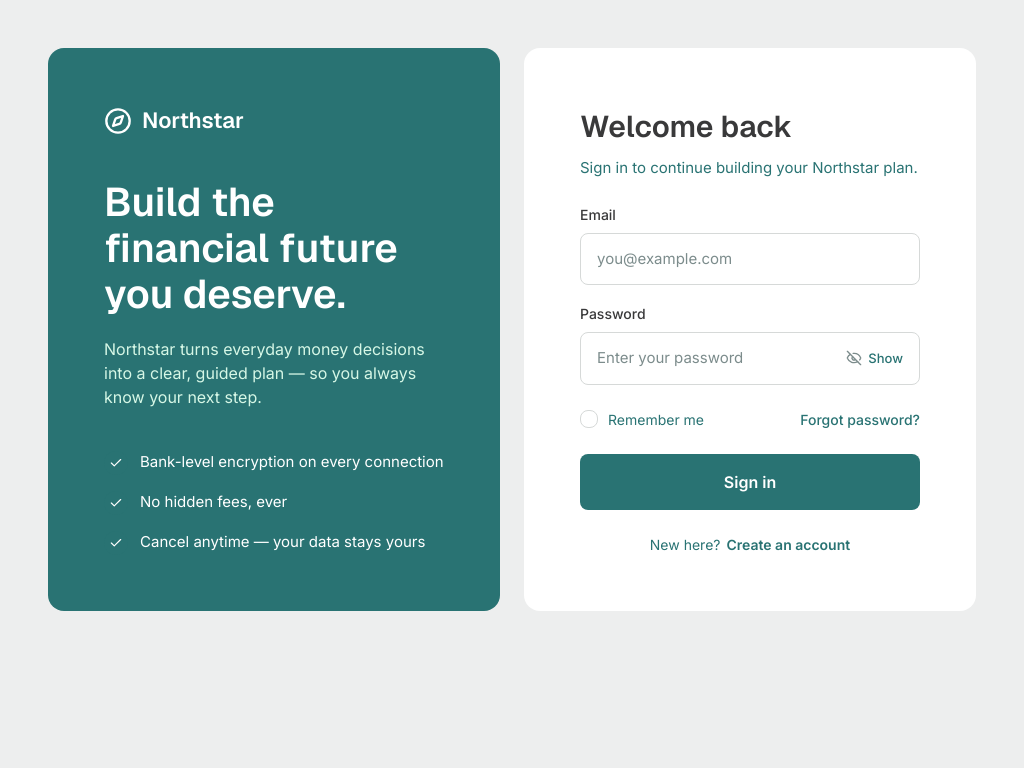
it: an invalid sign-in › explains a missing password
Type "ana@example.com" into the field labelled "Email" at (750, 259), box [597,248,903,270]
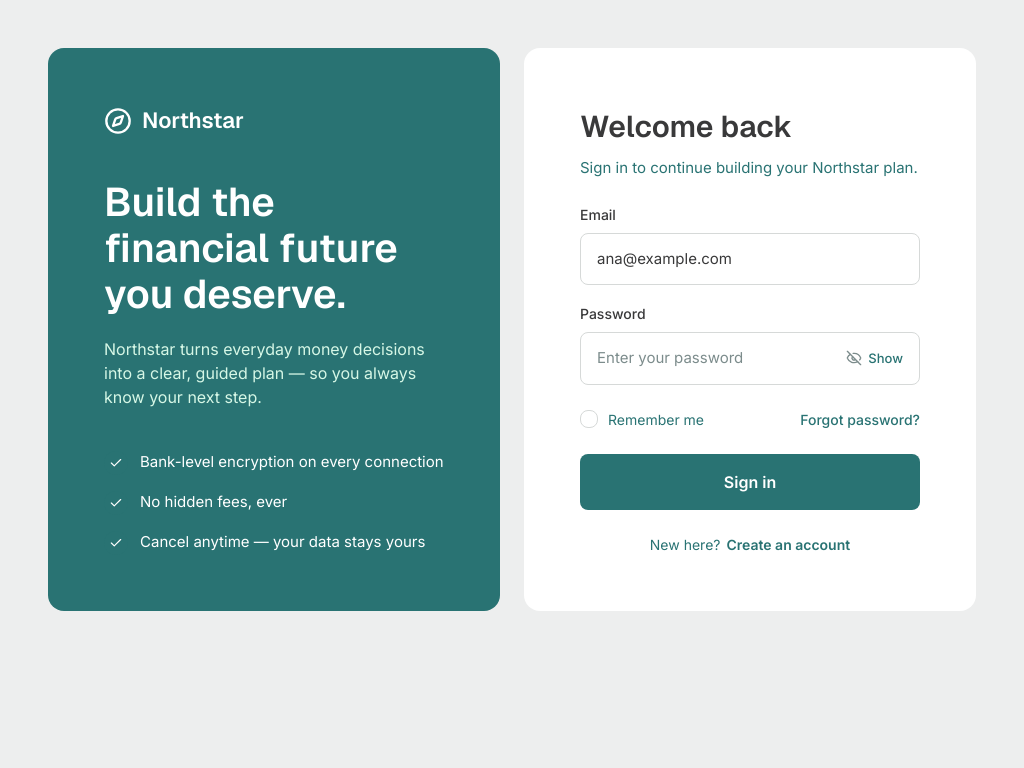
Click the button "Sign in" at (750, 482), box [580,454,920,510]
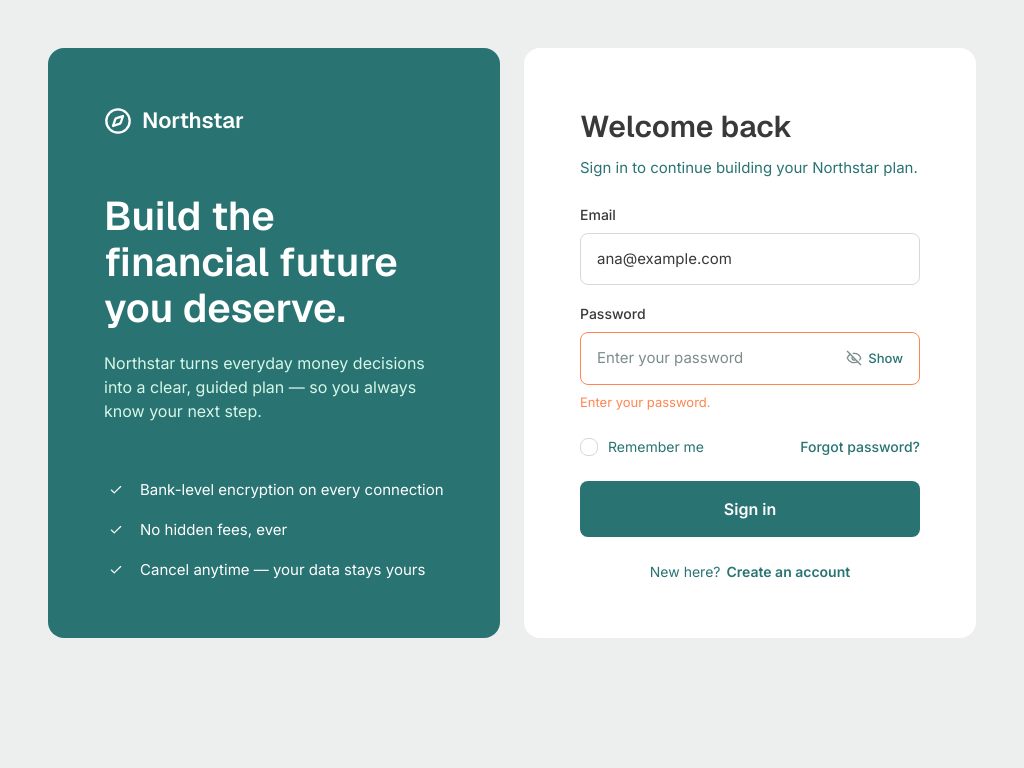
Expected: the text "Enter your password." is shown, [580,394,710,410]
